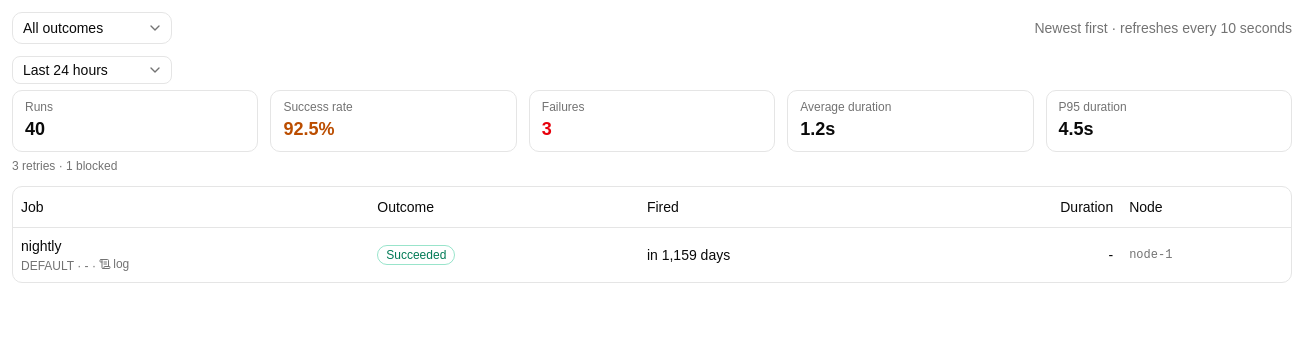
HistoryTable › run log › stops loading a log closed before it arrives, and loads it again when reopened
Click the button "log" at {"x": 114, "y": 264}, box [99,256,129,272]
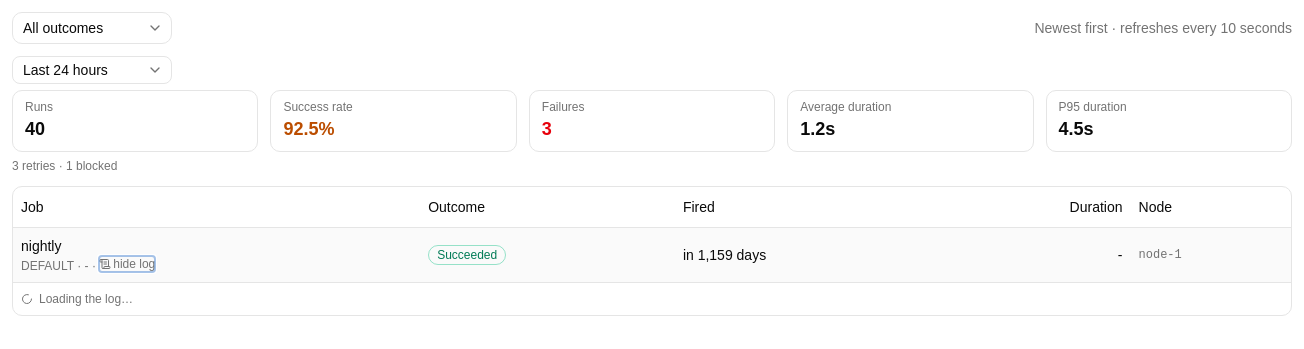
Click the button "hide log" at {"x": 127, "y": 264}, box [99,256,155,272]
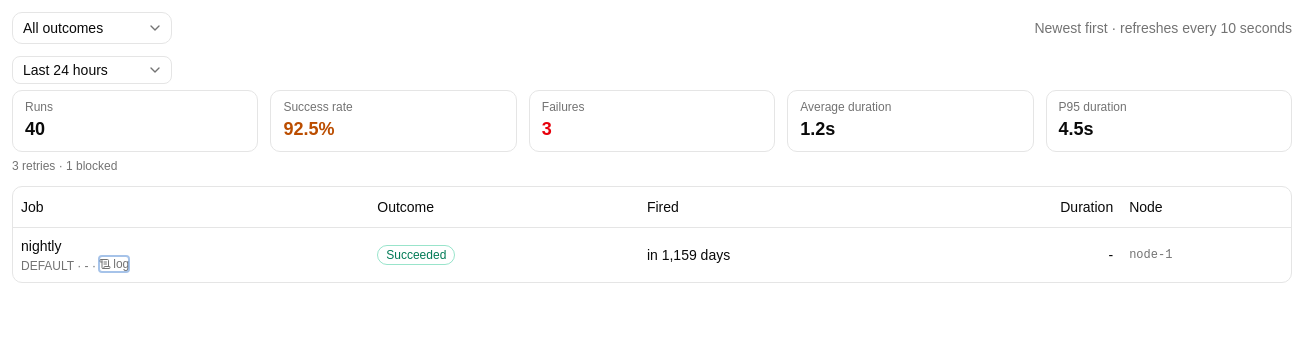
Click the button "log" at {"x": 114, "y": 264}, box [99,256,129,272]
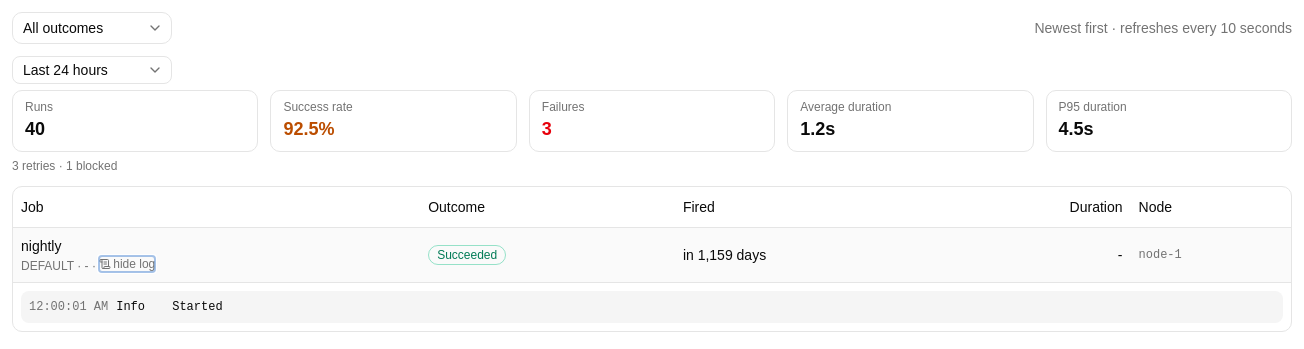
expect the list named "Run log" is shown: met, box [21,290,1283,322]
